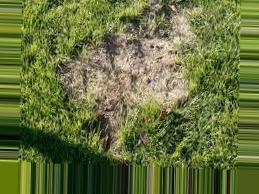patch: (70, 55, 134, 106), (114, 42, 167, 90), (128, 16, 172, 51), (138, 72, 181, 106), (155, 17, 197, 49), (95, 103, 139, 133), (97, 30, 135, 63), (145, 1, 187, 18)
